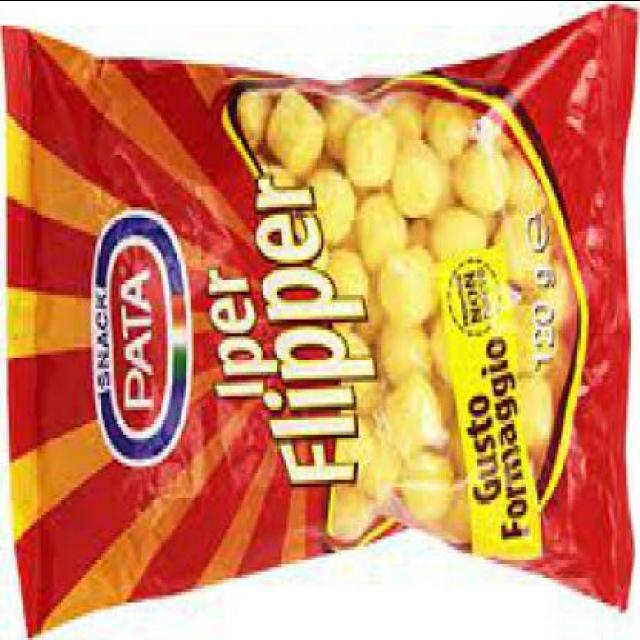Chips: (9, 3, 638, 637)
